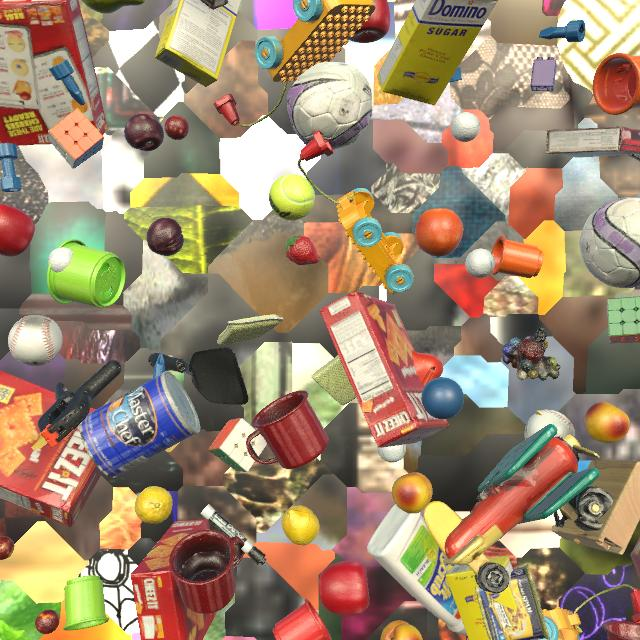ycb_002_master_chef_can: (79, 371, 200, 478)
ycb_003_cracker_box: (320, 292, 449, 448), (0, 371, 102, 527), (0, 0, 108, 146), (131, 519, 217, 640), (630, 537, 640, 579)
ycb_004_sugar_box: (377, 0, 498, 105), (155, 0, 242, 87), (445, 555, 517, 640)
ycb_008_pudding_box: (546, 126, 640, 157), (200, 0, 228, 10)
ycb_010_potted_meat_can: (475, 564, 550, 640)
ycb_012_strawberry: (286, 235, 319, 265)
ycb_013_apple: (319, 560, 370, 616), (0, 204, 35, 257), (349, 0, 390, 43)
ycb_014_lemon: (282, 506, 320, 545), (135, 486, 173, 524)
ycb_015_peach: (585, 402, 630, 443), (392, 472, 433, 514), (380, 620, 423, 640)
ycb_016_pear: (82, 0, 145, 14)
ycb_017_orange: (415, 208, 463, 257)
ycb_018_plum: (124, 114, 164, 151), (146, 218, 184, 256)
